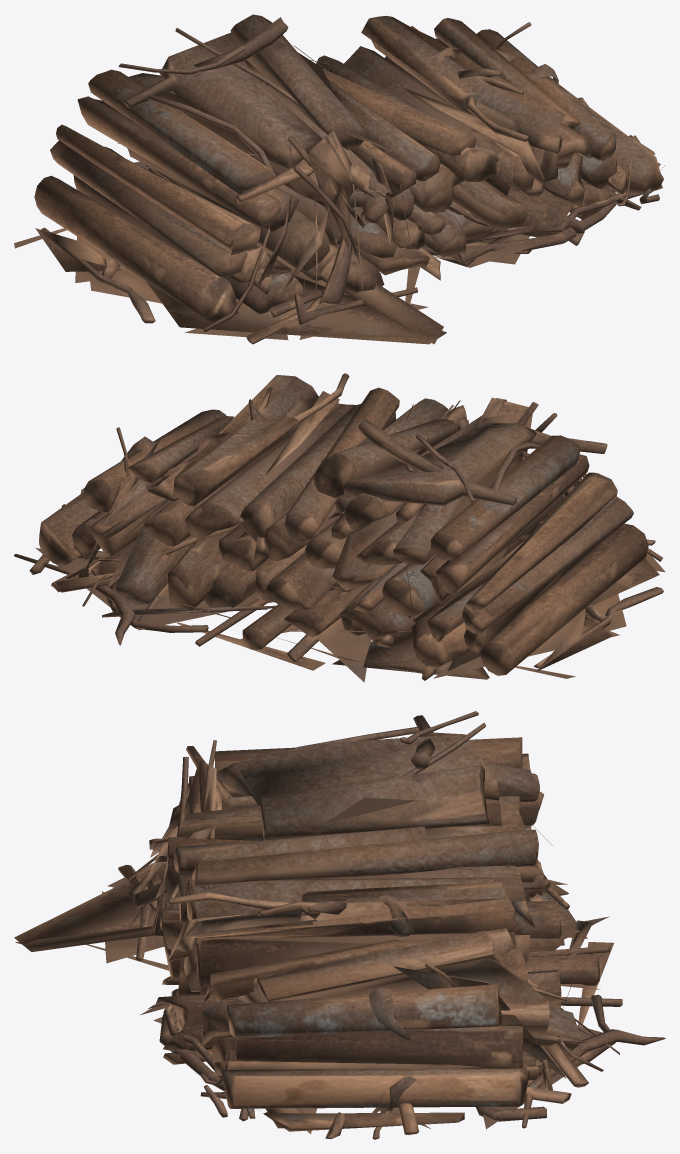
The model's file is Meshy_AI_Rustic_Timber_Pile_20261028_texture.fbx.
3 views of the same model, one above another, from view 1: azimuth 30°, elevation 25°; view 2: azimuth 150°, elevation 25°; view 3: azimuth 270°, elevation 25° (orthographic). The views are drawn at different scales.
Parts seen in each view (by area): view 1: Mesh_0; view 2: Mesh_0; view 3: Mesh_0.
Part boxes in pixels (bbox=[...]): Mesh_0: bbox=[14, 14, 664, 344]; Mesh_0: bbox=[14, 373, 665, 682]; Mesh_0: bbox=[14, 711, 665, 1139].
Bounding box in the file's own units: 95.02 × 30.37 × 83.74.
Materials: 1 (1 with a texture image).
